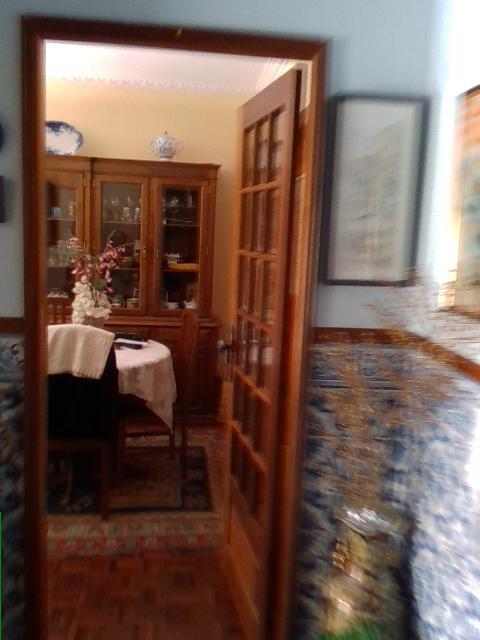door: (214, 64, 300, 640)
